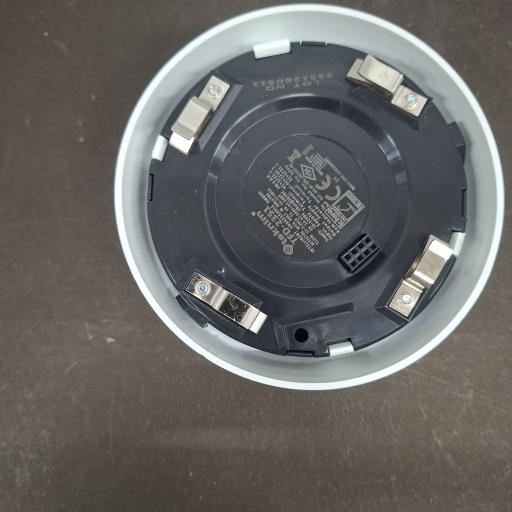yayli: (389, 235, 453, 317), (346, 55, 428, 117), (185, 272, 267, 333), (169, 75, 230, 155)
